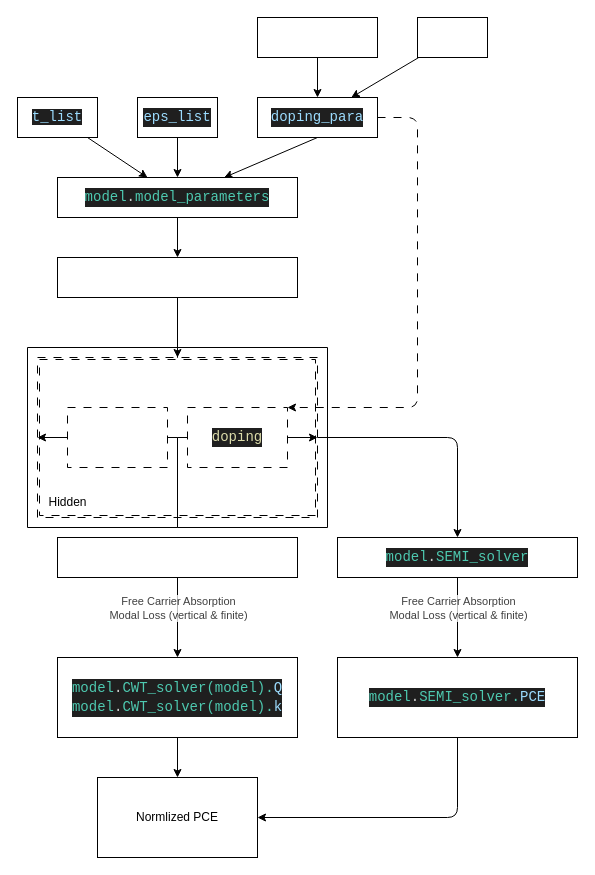
Some shapes in this 595 by 875 pixel diagram are drawn without their labels. Each missing label, with the centre of its shape:
coeff: the point at 452,37
is_no_doping: the point at 317,37
model . CWT_solver: the point at 177,557
model . Model: the point at 177,277
model . TMM: the point at 117,437
